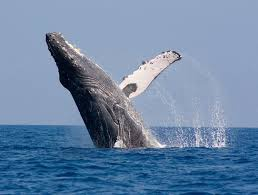humpback: (46, 32, 163, 148)
